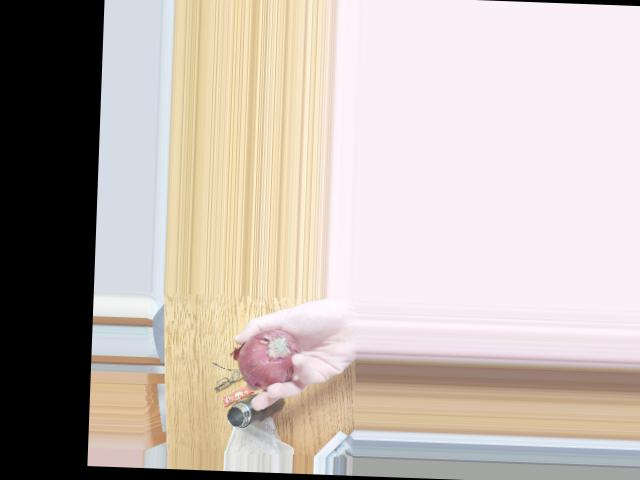onion: (242, 328, 301, 385)
